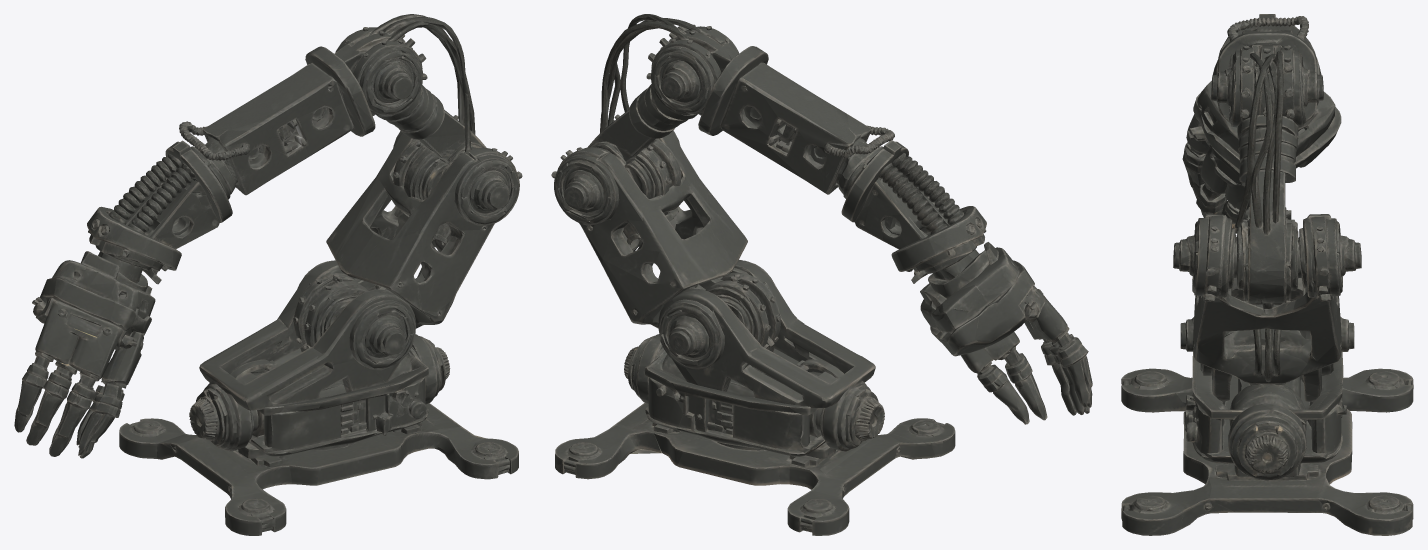
The model's file is TE_servo_arm.glb.
3 renders of one model, left to right at view 1: azimuth 30°, elevation 25°; view 2: azimuth 150°, elevation 25°; view 3: azimuth 270°, elevation 25°, orthographic. The views are drawn at different scales.
Bounding box in the file's own units: 1.9 × 1.52 × 0.8947.
1 material, 1 textured.
